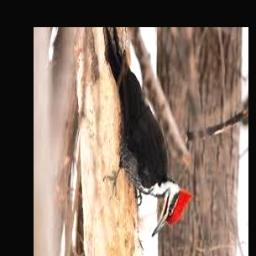Woodpecker: (105, 28, 193, 238)
